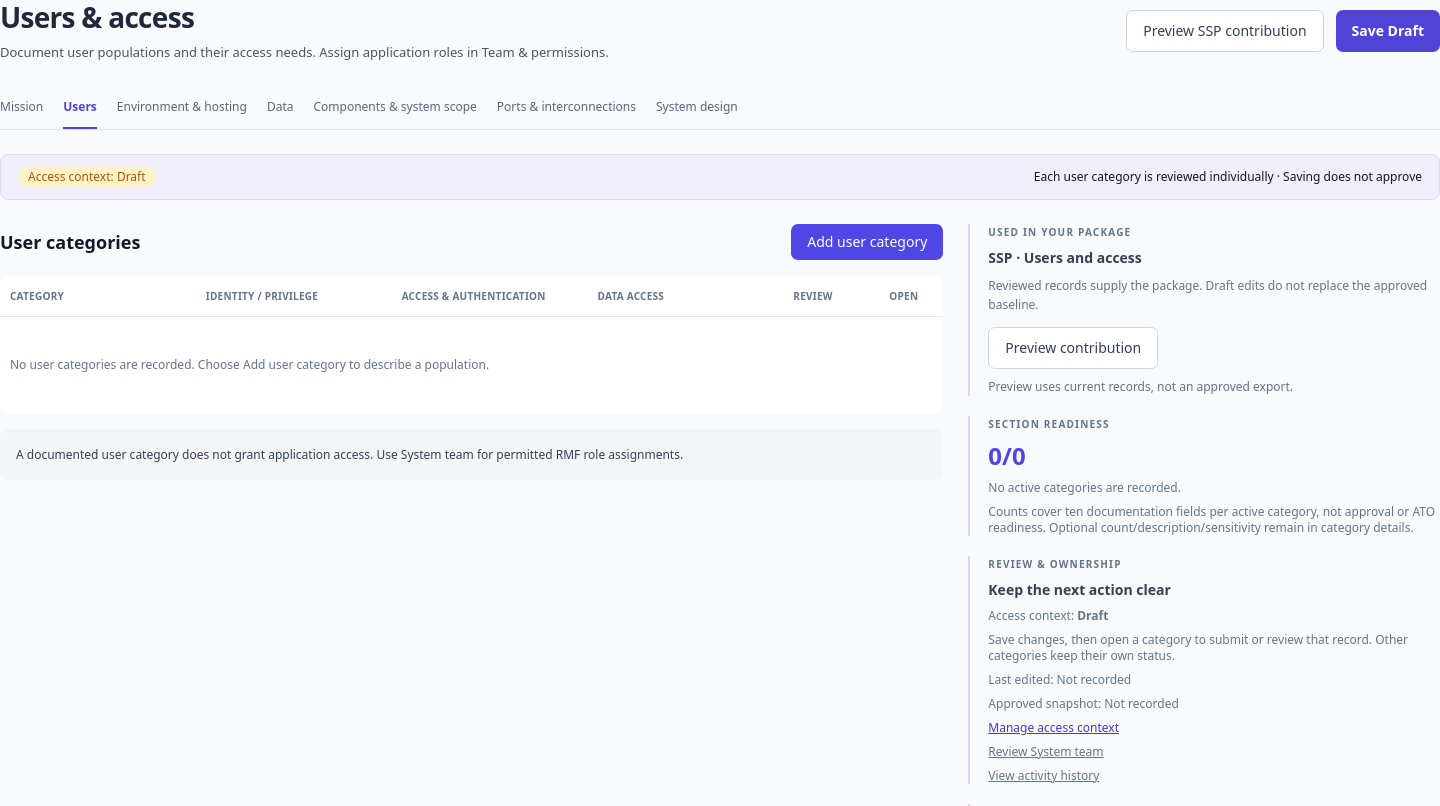
Test: server-authoritative profile editing (#968) › places Users Save Draft at the top and keeps one table Add user category action
Click the button "Add user category": click(867, 242) [791,224,943,260]
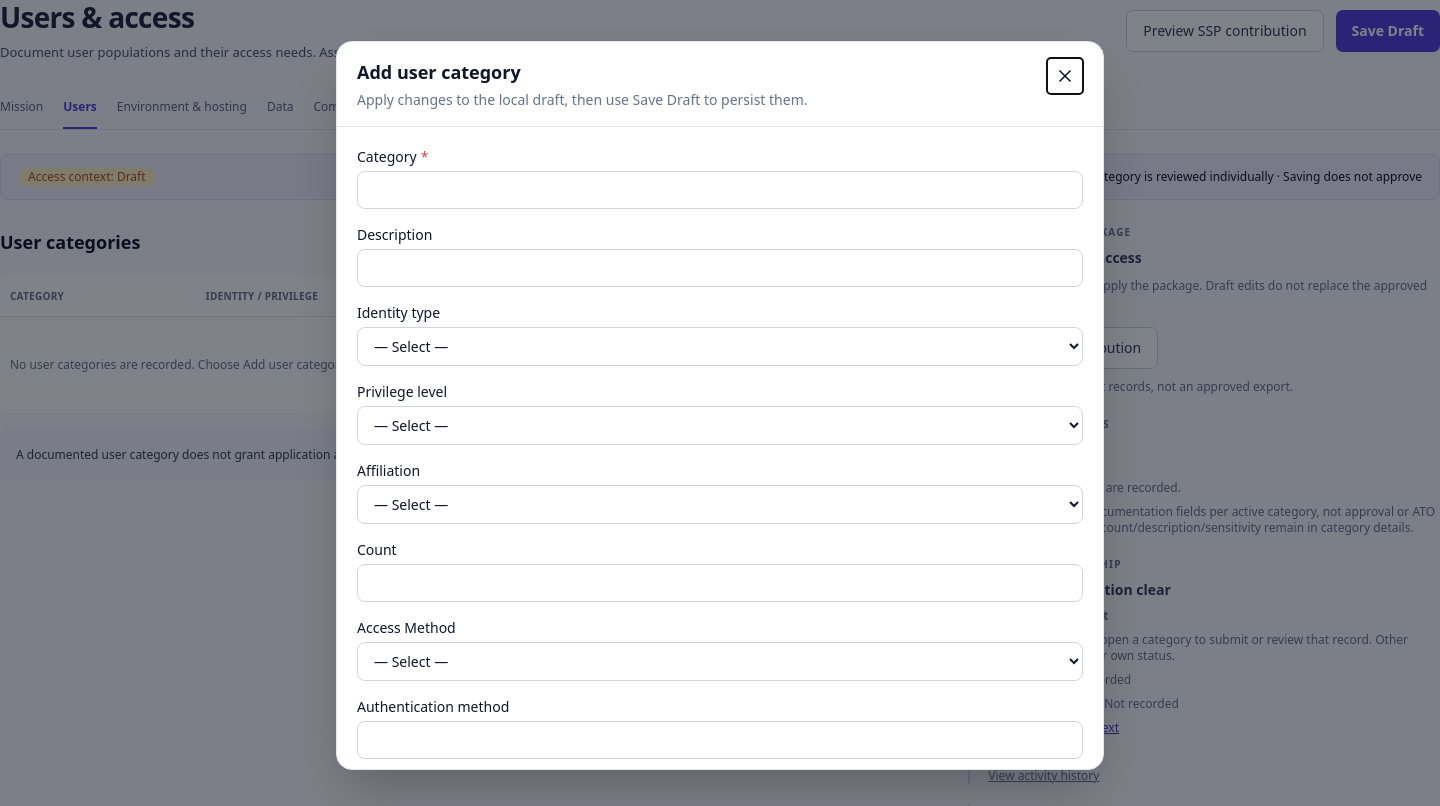
Expected: the number of buttons "Add user category" is 1, [791,224,943,260]
Now the dialog is shown, box [336,40,1104,770]
